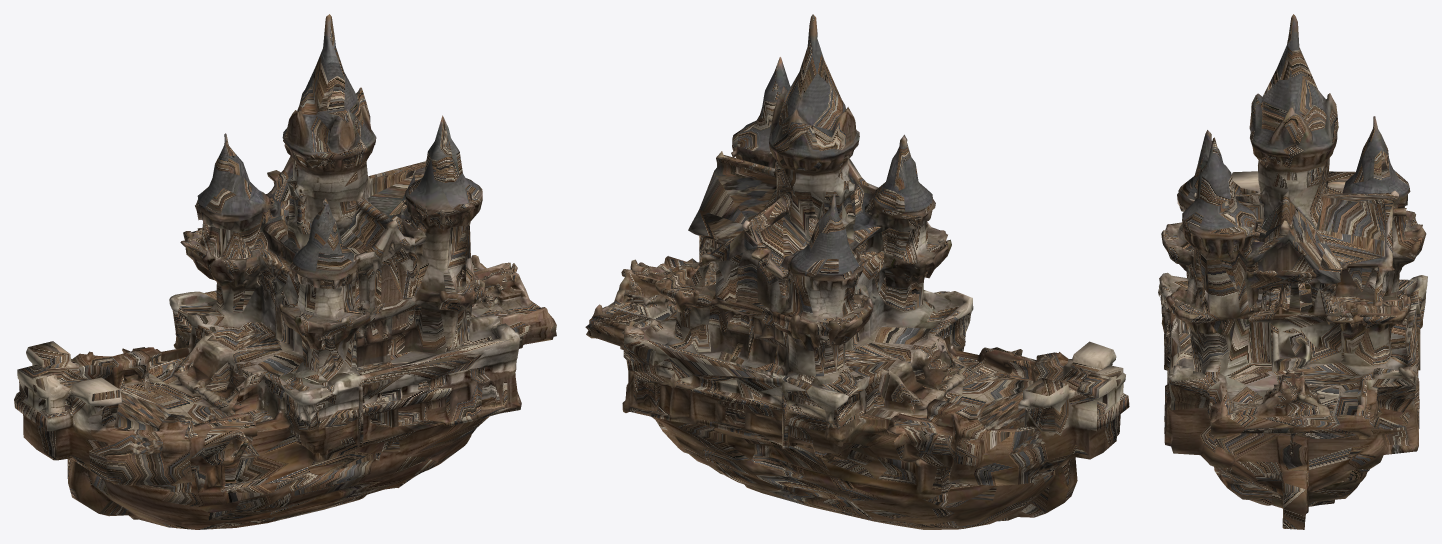
The model's file is Castle_Boat_Diorama.glb.
3 views of the same model, side by side, from view 1: azimuth 30°, elevation 25°; view 2: azimuth 150°, elevation 25°; view 3: azimuth 270°, elevation 25° (orthographic).
Visible parts, largest first — view 1: Castle_Boat_Diorama; view 2: Castle_Boat_Diorama; view 3: Castle_Boat_Diorama.
Part boxes in pixels (<box>): Castle_Boat_Diorama: <box>14,14,556,529</box>; Castle_Boat_Diorama: <box>585,14,1129,529</box>; Castle_Boat_Diorama: <box>1158,14,1427,529</box>.
Bounding box in the file's own units: 1.99 × 1.83 × 0.9704.
Materials: 1 (1 with a texture image).
